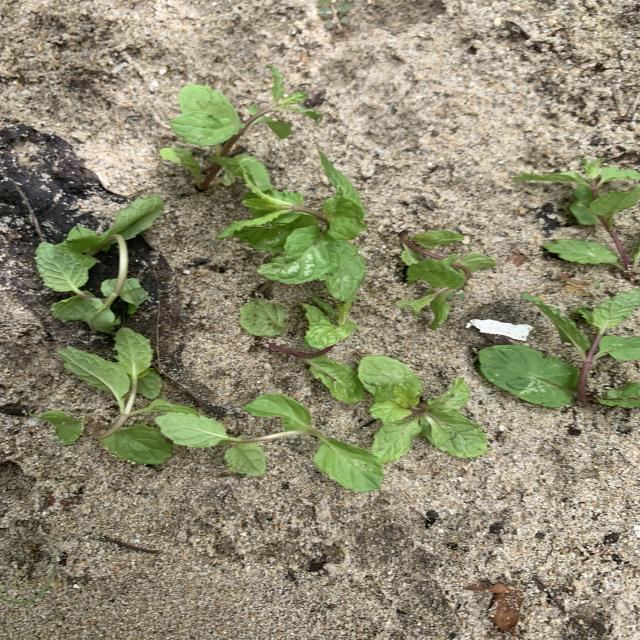crop: (40, 328, 264, 473), (164, 66, 320, 191), (218, 170, 367, 299), (478, 292, 639, 405), (37, 198, 162, 331), (359, 356, 487, 463), (245, 394, 383, 491), (239, 298, 363, 399), (400, 231, 495, 327), (545, 187, 639, 274), (513, 158, 639, 201)
weed: (465, 583, 522, 631), (535, 577, 567, 616), (318, 1, 352, 28)
